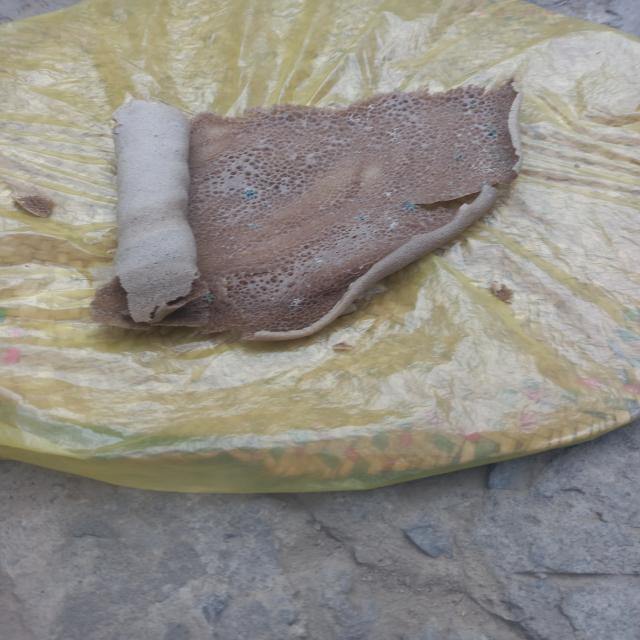injera_mold: (471, 158, 498, 179), (480, 142, 502, 154), (397, 199, 417, 212), (386, 128, 402, 144), (499, 162, 515, 174), (290, 297, 304, 309), (200, 292, 216, 302), (345, 114, 362, 123), (385, 222, 401, 231), (452, 152, 466, 162), (245, 189, 257, 198), (452, 143, 470, 149), (487, 128, 498, 137), (250, 222, 260, 230), (261, 201, 272, 208), (368, 104, 376, 112), (454, 132, 464, 138), (358, 216, 367, 222), (496, 156, 506, 161), (447, 180, 454, 187), (384, 191, 392, 197), (171, 123, 180, 128), (316, 259, 322, 264), (471, 98, 478, 102), (359, 265, 365, 269), (393, 189, 398, 192)
